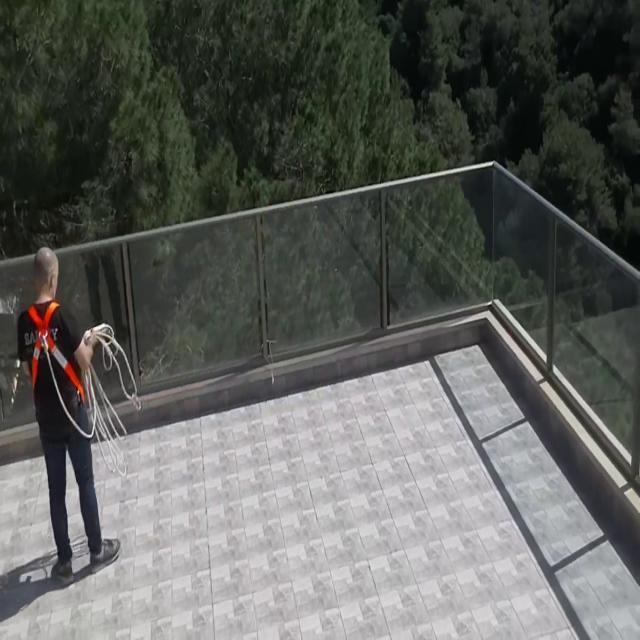Harness: (26, 302, 84, 402)
